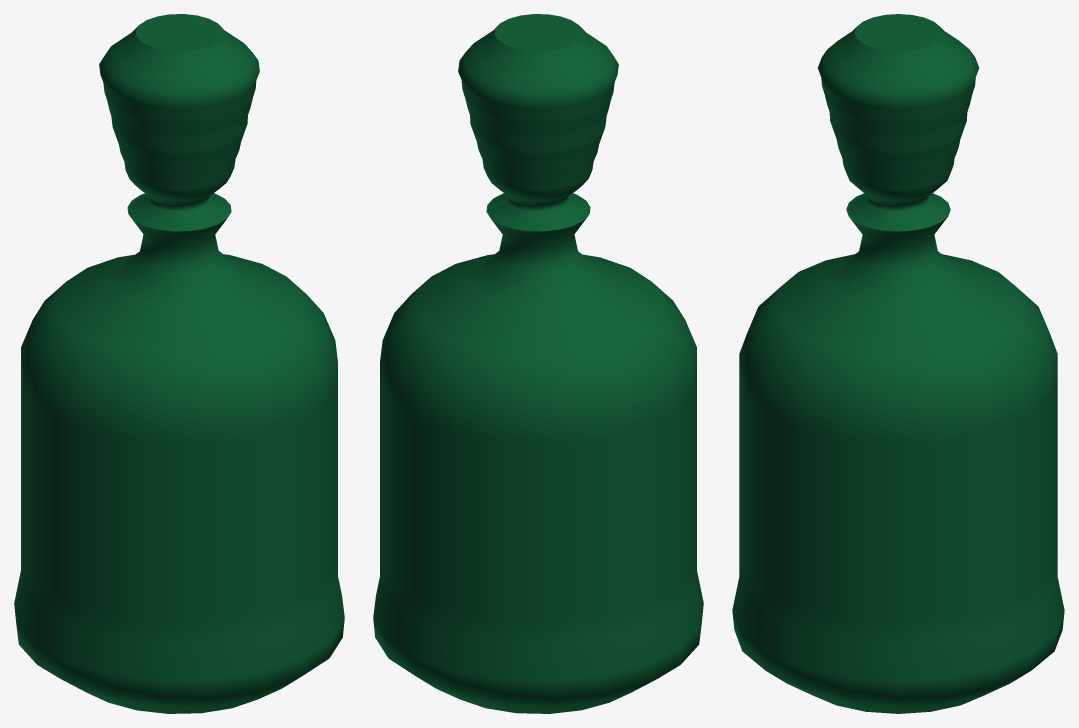
Rendered from perfume2.glb.
3 views of the same model, side by side, from view 1: azimuth 30°, elevation 25°; view 2: azimuth 150°, elevation 25°; view 3: azimuth 270°, elevation 25° (orthographic).
Parts seen in each view (by area): view 1: pCube5; view 2: pCube5; view 3: pCube5.
Part boxes in pixels (x1=…): pCube5: x1=14, y1=14, x2=344, y2=713; pCube5: x1=373, y1=14, x2=703, y2=713; pCube5: x1=732, y1=14, x2=1064, y2=713.
Size of the model in its own units: 2.11 by 4.47 by 2.11.
